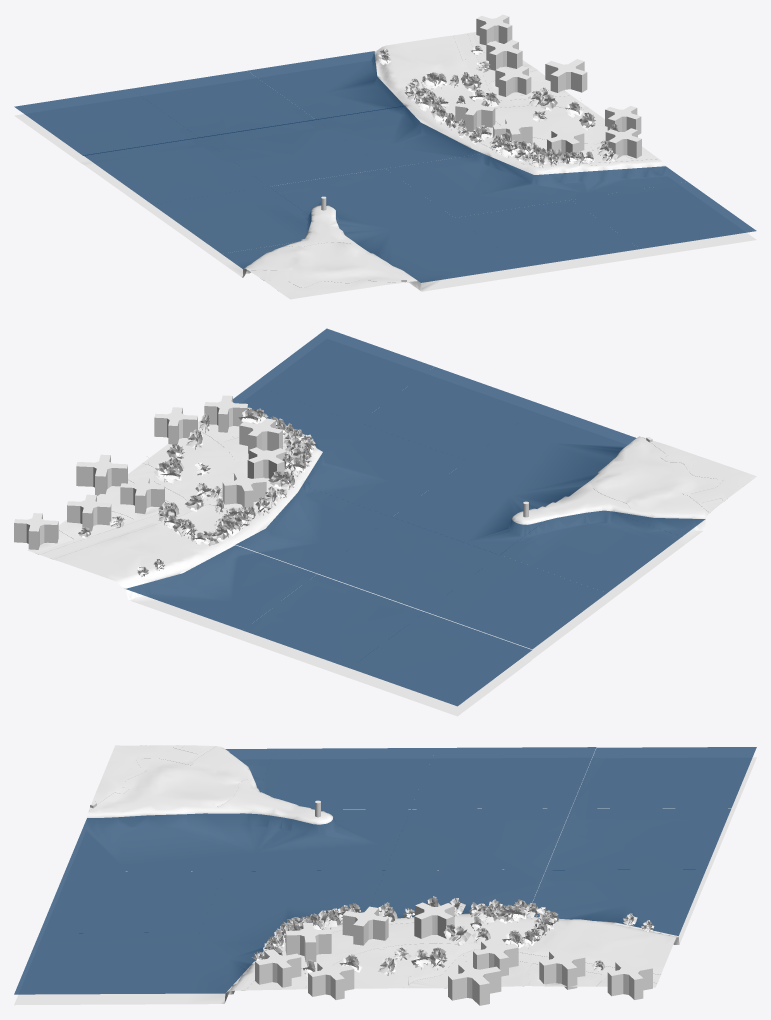
3 renders of one model, top to bottom at view 1: azimuth 30°, elevation 25°; view 2: azimuth 150°, elevation 25°; view 3: azimuth 270°, elevation 25°, orthographic. The views are drawn at different scales.
Visible parts, largest first — view 1: geopipeinodeJADD_ptg, geopipeinodeVskI55Uk, geopipeinodez_ICXC5J, geopipeinodemSIkzeQM, geopipeinodeJs7DeRRY, geopipeinodeedVQc3tE, geopipeinodeooAwawAp, geopipeinodeJ_B4QlQO; view 2: geopipeinodeJADD_ptg, geopipeinodeVskI55Uk, geopipeinodez_ICXC5J, geopipeinodemSIkzeQM, geopipeinodeJs7DeRRY, geopipeinodeedVQc3tE, geopipeinodeU0x1Wy0x, geopipeinodeU4jssnys, geopipeinodetnFTWlmP, geopipeinodeooAwawAp; view 3: geopipeinodeJADD_ptg, geopipeinodeVskI55Uk, geopipeinodemSIkzeQM (×3), geopipeinodeooAwawAp (×2), geopipeinodeJ_B4QlQO (×2), geopipeinodez_ICXC5J, geopipeinodeEXNc7ejf, geopipeinodeU0x1Wy0x, geopipeinodeedVQc3tE, geopipeinodeKqZ6Uw3n, geopipeinodeU4jssnys, geopipeinodetnFTWlmP (+1 smaller).
Part boxes in pixels (left/top/right/bottom): geopipeinodeJADD_ptg: left=14, top=32, right=756, bottom=299; geopipeinodeVskI55Uk: left=14, top=51, right=756, bottom=282; geopipeinodez_ICXC5J: left=456, top=33, right=585, bottom=107; geopipeinodemSIkzeQM: left=546, top=62, right=586, bottom=90; geopipeinodeJs7DeRRY: left=456, top=101, right=494, bottom=131; geopipeinodeedVQc3tE: left=477, top=17, right=511, bottom=44; geopipeinodeooAwawAp: left=247, top=267, right=406, bottom=287; geopipeinodeJ_B4QlQO: left=487, top=42, right=521, bottom=69; geopipeinodeJADD_ptg: left=27, top=339, right=756, bottom=716; geopipeinodeVskI55Uk: left=126, top=328, right=705, bottom=706; geopipeinodez_ICXC5J: left=40, top=463, right=187, bottom=558; geopipeinodemSIkzeQM: left=78, top=457, right=127, bottom=493; geopipeinodeJs7DeRRY: left=223, top=474, right=265, bottom=508; geopipeinodeedVQc3tE: left=15, top=514, right=58, bottom=548; geopipeinodeU0x1Wy0x: left=241, top=421, right=282, bottom=450; geopipeinodeU4jssnys: left=155, top=409, right=197, bottom=444; geopipeinodetnFTWlmP: left=121, top=478, right=164, bottom=512; geopipeinodeooAwawAp: left=650, top=441, right=728, bottom=512; geopipeinodeJADD_ptg: left=14, top=745, right=756, bottom=1005; geopipeinodeVskI55Uk: left=14, top=747, right=756, bottom=994; geopipeinodemSIkzeQM (×3): left=448, top=962, right=501, bottom=1005; geopipeinodeooAwawAp (×2): left=95, top=745, right=480, bottom=988; geopipeinodeJ_B4QlQO (×2): left=539, top=952, right=585, bottom=989; geopipeinodez_ICXC5J: left=409, top=949, right=660, bottom=988; geopipeinodeEXNc7ejf: left=255, top=952, right=299, bottom=986; geopipeinodeU0x1Wy0x: left=286, top=925, right=330, bottom=961; geopipeinodeedVQc3tE: left=608, top=963, right=651, bottom=997; geopipeinodeKqZ6Uw3n: left=344, top=909, right=388, bottom=945; geopipeinodeU4jssnys: left=309, top=964, right=352, bottom=998; geopipeinodetnFTWlmP: left=473, top=942, right=516, bottom=976.
Size of the model in its own units: 532 by 637 by 34.31.
